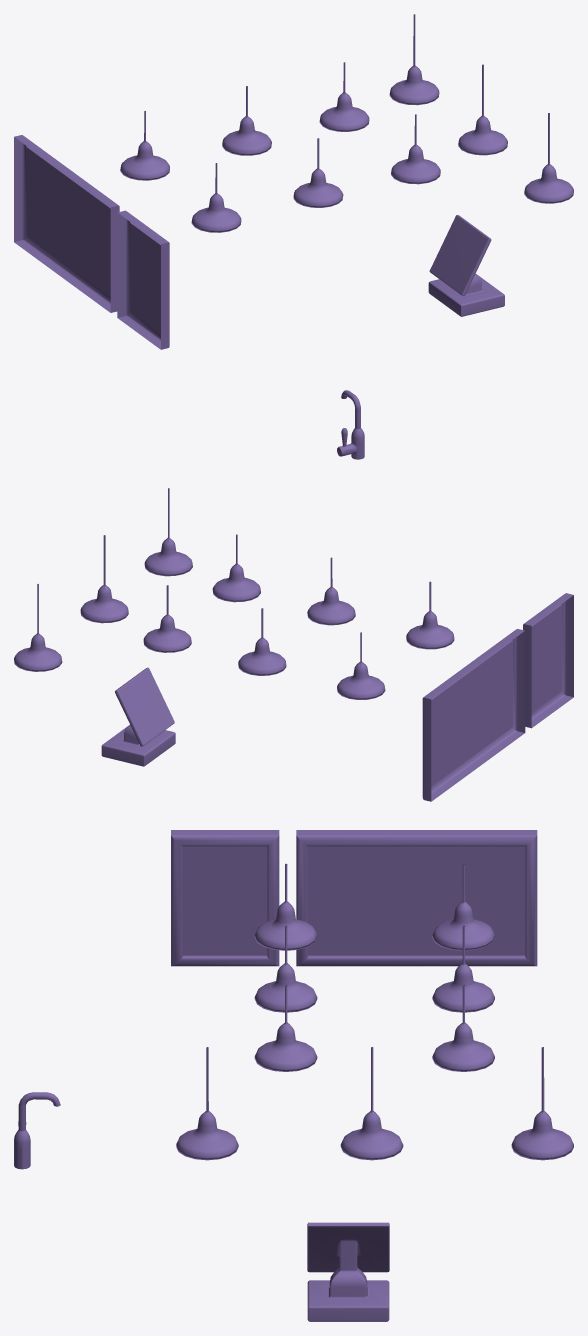
3 views of the same model, one above another, from view 1: azimuth 30°, elevation 25°; view 2: azimuth 150°, elevation 25°; view 3: azimuth 270°, elevation 25° (orthographic). The views are drawn at different scales.
Parts seen in each view (by area): view 1: S01_group1; view 2: S01_group1; view 3: S01_group1.
Boxes of the visible parts, box(x1,y1,x2,y2) form: S01_group1: box(14, 14, 573, 459); S01_group1: box(14, 488, 573, 801); S01_group1: box(14, 830, 573, 1321).
Size of the model in its own units: 20685 by 10458 by 18964.
